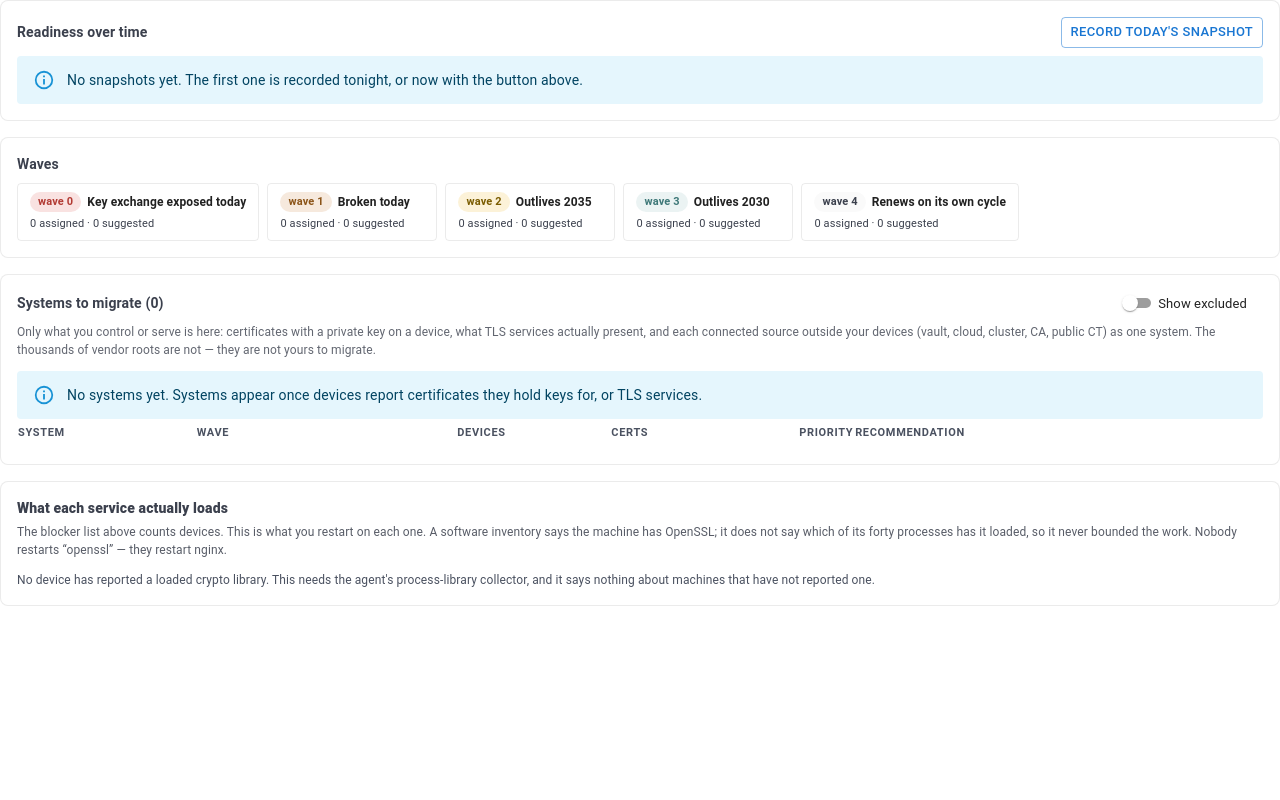
CdpRoadmapPanel › lo excluido no se lista por defecto, pero se puede ver
Expected: the text "Systems to migrate (0)" is shown, [17,293,164,314]
Step 1. Click the switch labelled "Show excluded" → click(1183, 303), box [1118,291,1247,315]
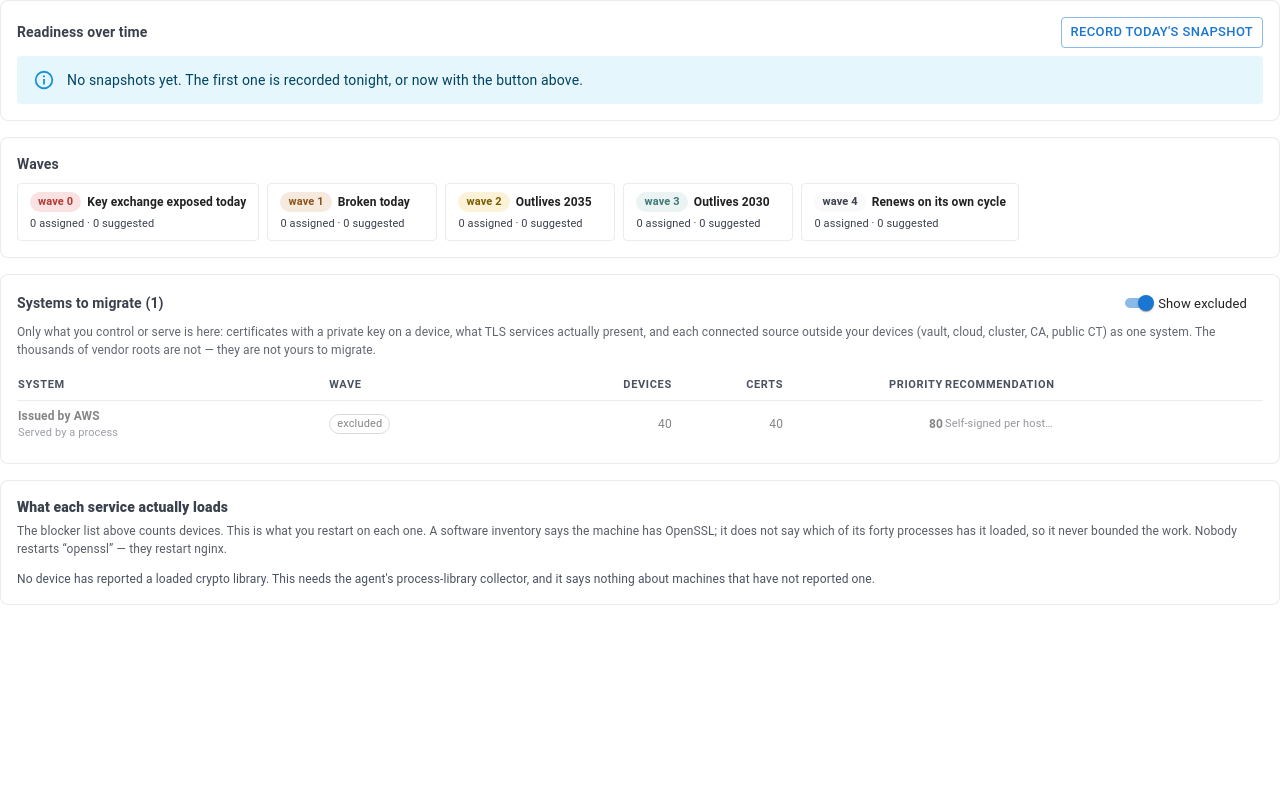
Expected: the button "Issued by AWS" is shown, [18,409,100,423]
Expected: the text "excluded" is shown, [337,417,382,430]
